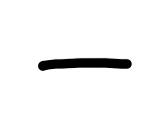minus: (38, 58, 132, 71)
